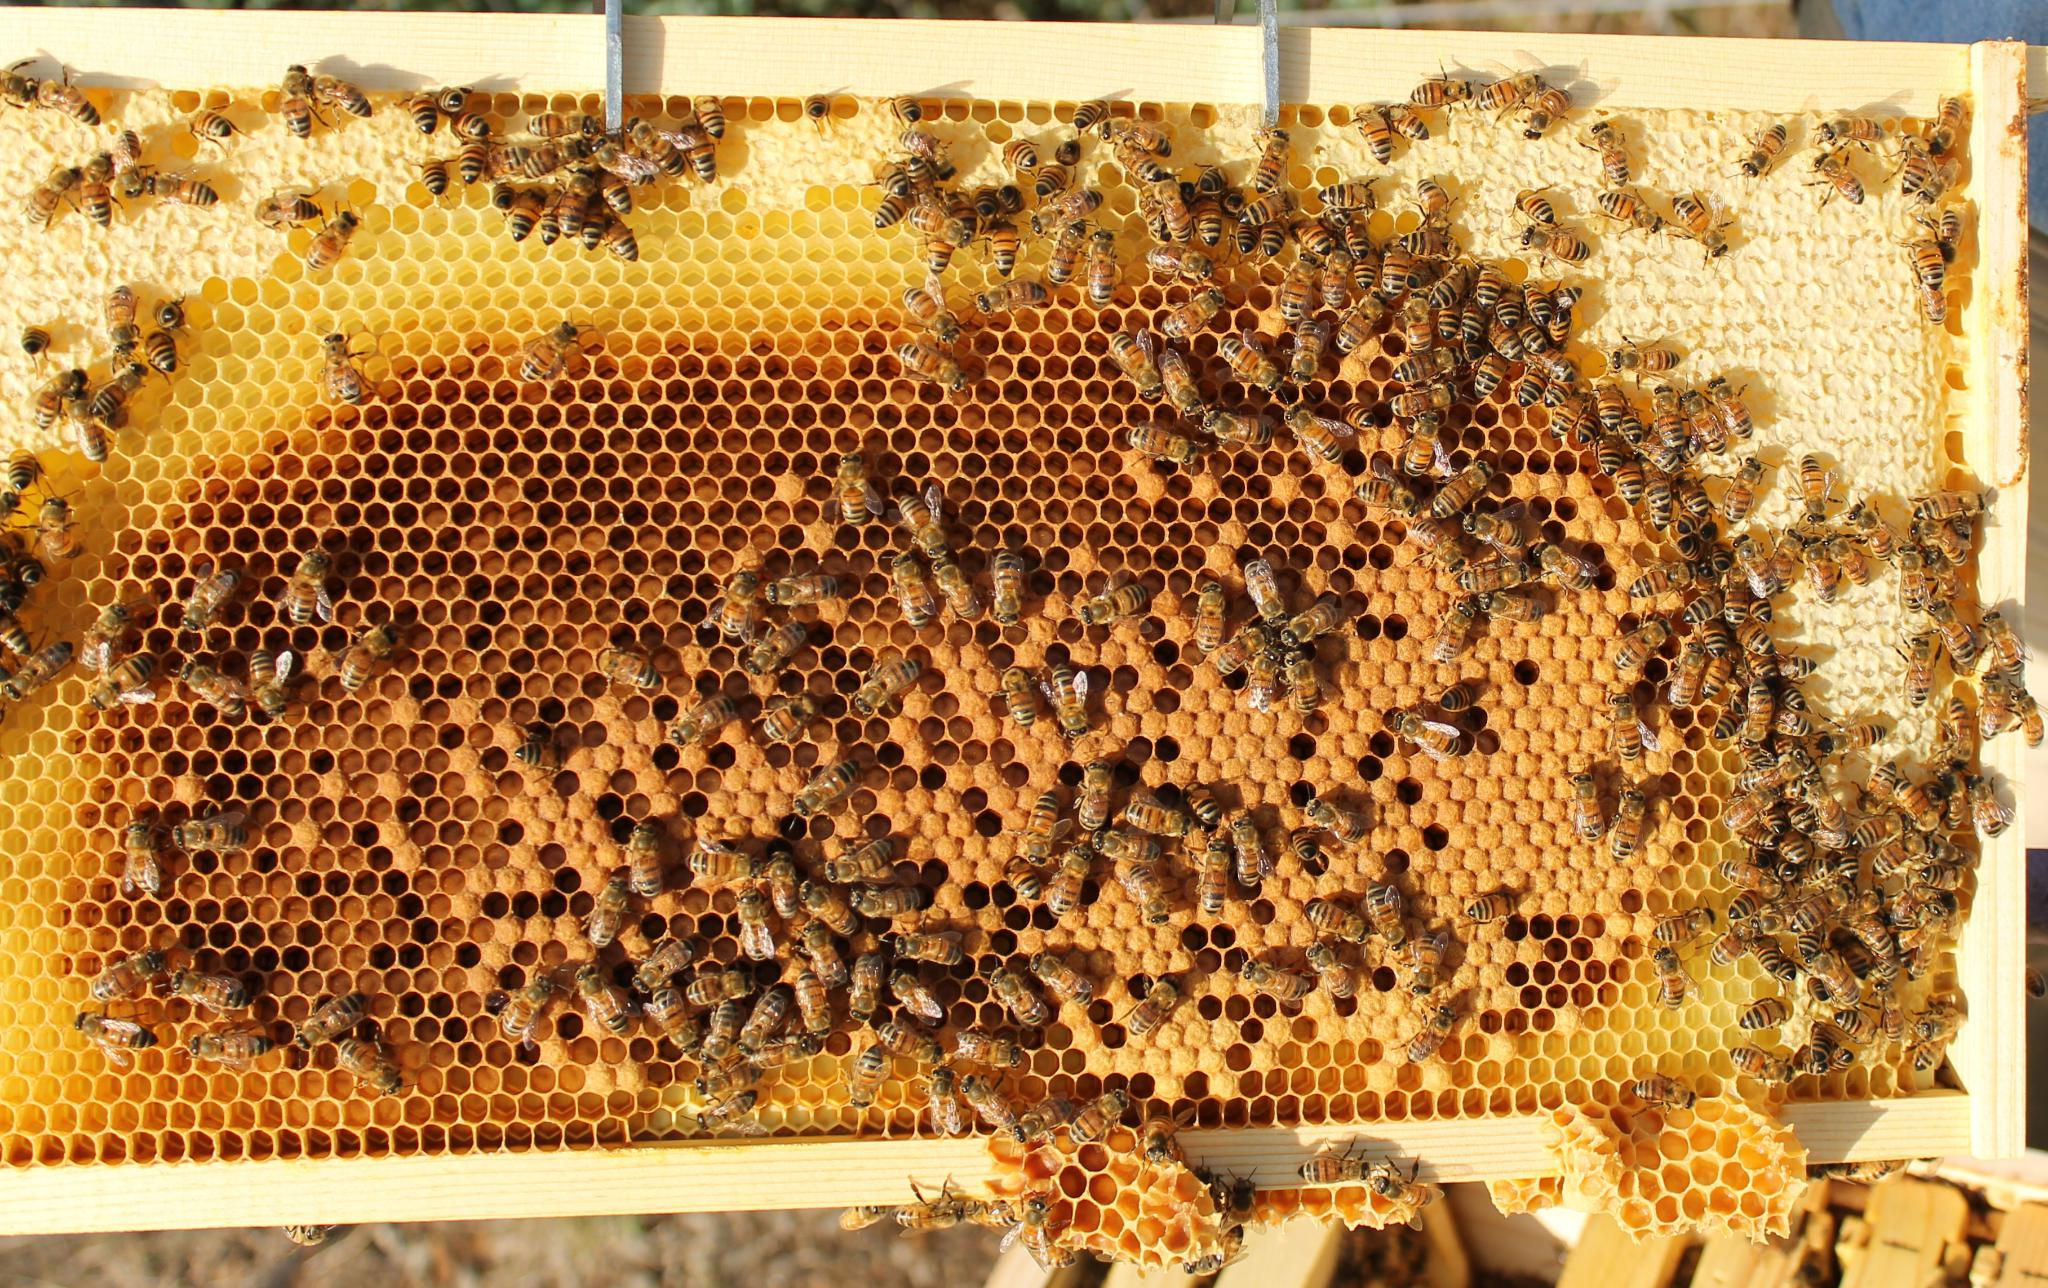bee: (7, 640, 73, 700), (295, 991, 364, 1048), (340, 626, 398, 689), (184, 567, 240, 629), (1431, 460, 1491, 516), (338, 1037, 402, 1091), (856, 659, 922, 711), (626, 119, 686, 175), (519, 322, 576, 381), (795, 758, 858, 812), (896, 343, 966, 390), (93, 653, 153, 708), (577, 965, 626, 1030), (901, 286, 957, 341), (1673, 197, 1726, 255), (1287, 404, 1340, 461), (33, 80, 99, 126), (1220, 338, 1281, 389), (1790, 881, 1854, 929), (991, 966, 1045, 1022), (739, 988, 785, 1054), (635, 938, 695, 988), (183, 662, 243, 711), (1031, 953, 1092, 1002), (502, 975, 551, 1036), (1112, 334, 1161, 395), (172, 969, 252, 1006), (1033, 190, 1104, 231), (1183, 1223, 1241, 1273), (306, 212, 356, 270), (1337, 291, 1386, 350), (36, 368, 85, 427), (1394, 712, 1460, 755), (592, 138, 654, 184), (77, 1012, 157, 1048), (960, 1074, 1015, 1126), (746, 622, 803, 672), (1069, 1091, 1126, 1140), (672, 696, 733, 742), (1164, 291, 1224, 337), (801, 881, 855, 933), (27, 168, 77, 223), (899, 496, 947, 553), (1732, 533, 1775, 597), (1681, 389, 1724, 453), (1049, 844, 1089, 913), (1367, 880, 1407, 948), (1805, 951, 1858, 1002), (92, 362, 145, 413), (1929, 599, 1972, 662), (653, 987, 696, 1049), (1129, 976, 1177, 1033), (1244, 558, 1284, 625), (827, 837, 890, 878), (95, 953, 159, 994), (1100, 120, 1171, 157), (893, 553, 928, 631), (889, 969, 941, 1019), (1710, 375, 1753, 436), (1082, 583, 1147, 623), (85, 602, 125, 668), (1217, 625, 1270, 674), (899, 131, 954, 178), (324, 334, 361, 404), (70, 390, 107, 460), (1126, 426, 1196, 463), (1983, 610, 2023, 674), (1304, 901, 1368, 941), (1155, 172, 1192, 240), (1535, 542, 1589, 588), (803, 920, 843, 982), (309, 76, 371, 116), (1738, 751, 1808, 786), (1475, 74, 1545, 110), (1963, 773, 2002, 837), (1242, 960, 1306, 999), (1408, 1005, 1453, 1059), (1015, 1095, 1070, 1140), (289, 551, 324, 622), (1052, 663, 1086, 735), (1392, 344, 1460, 380), (1849, 503, 1892, 559), (1717, 859, 1782, 896), (879, 1021, 941, 1059), (1414, 522, 1463, 571), (1616, 620, 1668, 666), (589, 877, 625, 944), (1355, 479, 1422, 515), (1907, 521, 1966, 561), (249, 650, 286, 714), (1598, 193, 1662, 230), (1723, 459, 1760, 522), (1768, 528, 1805, 592), (933, 559, 977, 614), (907, 208, 968, 246), (1281, 254, 1315, 322), (40, 497, 80, 555), (280, 64, 312, 138), (698, 1088, 757, 1126), (1806, 773, 1848, 828), (558, 169, 592, 236), (797, 966, 830, 1036), (1592, 122, 1628, 185), (700, 1000, 738, 1061), (1526, 89, 1572, 138), (1816, 154, 1862, 203), (1894, 778, 1938, 828), (1824, 534, 1868, 585), (763, 694, 815, 737), (1309, 944, 1352, 996), (1742, 123, 1785, 175), (1871, 838, 1937, 873), (1389, 383, 1457, 415), (1204, 411, 1272, 444), (80, 154, 111, 226), (1309, 798, 1364, 838), (1628, 564, 1695, 597), (1612, 791, 1644, 858), (1523, 227, 1589, 260), (721, 571, 755, 635), (687, 970, 751, 1005), (525, 141, 586, 177), (1049, 221, 1085, 282), (1753, 895, 1811, 932), (1723, 786, 1776, 827), (1803, 536, 1836, 601), (1125, 801, 1190, 834), (738, 890, 769, 959), (896, 932, 965, 963), (1729, 1046, 1791, 1080), (147, 175, 218, 205), (191, 1033, 275, 1058), (1671, 641, 1704, 705), (1284, 602, 1336, 643), (1819, 721, 1886, 752), (1655, 907, 1716, 941), (600, 650, 657, 686), (1131, 864, 1166, 921), (632, 824, 660, 896), (1711, 916, 1754, 963), (1898, 904, 1947, 945), (1256, 129, 1288, 191), (695, 1062, 763, 1092), (978, 280, 1046, 310), (1465, 513, 1524, 548), (1028, 789, 1057, 861), (1914, 490, 1986, 518), (959, 1031, 1020, 1064), (114, 129, 144, 196), (681, 125, 715, 183), (128, 822, 156, 892), (107, 285, 135, 355), (175, 819, 248, 846), (686, 850, 758, 877), (1632, 1077, 1695, 1108), (1405, 413, 1437, 475), (1195, 583, 1223, 651), (1977, 672, 2005, 740), (1088, 230, 1113, 306), (1456, 562, 1527, 589), (1164, 356, 1199, 410), (1632, 433, 1680, 473), (2011, 686, 2042, 746), (850, 1043, 882, 1104), (1285, 648, 1315, 712), (1857, 760, 1895, 809), (1742, 678, 1770, 745), (1079, 761, 1107, 828), (1573, 773, 1601, 840), (1925, 549, 1962, 599), (1828, 926, 1865, 976), (1947, 696, 1974, 766), (1201, 843, 1227, 913), (1005, 666, 1036, 726), (1610, 696, 1640, 758), (1149, 246, 1211, 276), (1429, 264, 1475, 304), (1655, 384, 1683, 450), (1897, 543, 1923, 611), (1906, 637, 1932, 705), (852, 886, 920, 913), (1021, 1233, 1074, 1267), (1852, 815, 1910, 846), (1321, 242, 1349, 306), (1293, 318, 1321, 381), (1848, 914, 1891, 956), (1092, 831, 1159, 858), (1437, 604, 1471, 656), (1481, 592, 1540, 622), (769, 576, 838, 601), (892, 1200, 962, 1226), (751, 1037, 813, 1065), (1239, 191, 1296, 223), (994, 549, 1018, 622), (1800, 453, 1825, 521), (1935, 767, 1963, 828), (1655, 947, 1683, 1008), (850, 953, 877, 1016), (478, 145, 530, 178), (512, 187, 545, 239), (1299, 1156, 1370, 1180), (1526, 346, 1575, 380), (1549, 389, 1583, 438), (1235, 819, 1260, 884), (595, 166, 631, 212), (603, 214, 638, 260), (931, 1067, 959, 1125), (841, 454, 865, 522), (1730, 617, 1773, 654), (1487, 316, 1524, 359), (1413, 933, 1441, 990), (1931, 98, 1959, 154), (1833, 887, 1886, 917), (1876, 981, 1903, 1040), (1730, 886, 1781, 917), (1821, 116, 1883, 141), (1359, 113, 1391, 163), (772, 852, 795, 917), (1116, 147, 1161, 181), (1891, 878, 1923, 924), (1901, 135, 1926, 194), (1417, 178, 1447, 229), (525, 113, 592, 135), (1773, 736, 1815, 772), (1411, 82, 1474, 105), (1914, 1025, 1950, 1067), (1377, 1178, 1432, 1205), (1738, 999, 1787, 1028), (1405, 294, 1431, 350), (1676, 473, 1708, 516), (968, 1199, 1020, 1226), (1613, 349, 1680, 369), (1251, 648, 1275, 706), (1919, 166, 1955, 205), (0, 607, 30, 653), (1914, 243, 1944, 289), (907, 156, 935, 203), (1917, 277, 1946, 325), (1477, 352, 1506, 396), (1683, 589, 1723, 622), (1006, 858, 1039, 898), (1834, 1009, 1874, 1042), (1389, 107, 1429, 139), (1193, 194, 1220, 243), (1316, 183, 1371, 206), (264, 196, 319, 220), (1383, 242, 1407, 297), (1143, 1113, 1171, 1159), (1641, 466, 1671, 509), (1291, 220, 1328, 254), (1226, 1177, 1254, 1221), (540, 187, 562, 243), (991, 227, 1017, 276), (1140, 196, 1168, 239), (1768, 678, 1806, 709), (1186, 783, 1218, 819), (1468, 893, 1517, 917), (1766, 711, 1812, 736), (1920, 1006, 1957, 1037), (145, 331, 175, 369), (1769, 654, 1816, 678), (1803, 824, 1851, 847), (1618, 457, 1641, 505), (579, 199, 601, 249), (1523, 280, 1549, 322), (1496, 286, 1523, 328), (1714, 699, 1744, 736), (1779, 829, 1809, 867), (515, 740, 561, 764), (1597, 380, 1619, 429), (1517, 315, 1545, 353), (1518, 367, 1546, 405), (460, 142, 487, 183), (874, 162, 905, 196), (0, 71, 36, 101), (1702, 654, 1727, 696), (1023, 1196, 1043, 1246), (1940, 211, 1960, 261), (696, 99, 724, 137), (411, 95, 438, 134), (193, 110, 232, 137), (840, 1205, 886, 1227), (1353, 242, 1376, 288), (1908, 936, 1932, 979), (1407, 260, 1443, 288), (1920, 865, 1965, 887), (951, 191, 975, 233), (1744, 647, 1775, 678), (1521, 191, 1554, 221), (1545, 371, 1573, 405), (1346, 217, 1368, 260), (1477, 267, 1499, 310), (1649, 487, 1671, 530), (1699, 619, 1726, 654), (1784, 794, 1811, 829), (1739, 825, 1779, 849), (1540, 286, 1581, 310), (453, 111, 490, 137), (876, 196, 907, 226), (1597, 432, 1619, 473), (1765, 778, 1808, 798), (1460, 303, 1484, 340), (1034, 166, 1066, 194), (1747, 589, 1773, 622), (1870, 947, 1897, 979), (421, 159, 447, 193), (926, 237, 951, 272), (1618, 404, 1640, 442), (1754, 933, 1778, 969), (1724, 586, 1745, 626), (7, 457, 34, 488), (1438, 303, 1460, 340), (1073, 102, 1106, 128), (1797, 856, 1833, 878), (1797, 1045, 1827, 1071), (19, 328, 50, 353), (1834, 846, 1858, 878), (1578, 405, 1598, 442), (1549, 310, 1572, 344), (15, 553, 40, 583), (1199, 166, 1229, 191), (1940, 889, 1957, 930), (1261, 223, 1284, 255), (1293, 828, 1318, 856), (1812, 1024, 1833, 1058), (1441, 683, 1471, 706), (1005, 141, 1034, 165), (1236, 221, 1258, 252), (1799, 924, 1819, 957), (1319, 206, 1352, 227), (0, 530, 21, 562), (1769, 951, 1794, 978), (895, 95, 922, 120), (1345, 404, 1373, 427), (1677, 536, 1704, 559), (975, 187, 997, 215), (1674, 439, 1701, 461), (1711, 542, 1733, 568), (157, 301, 181, 325), (1762, 807, 1784, 832), (1750, 844, 1775, 867), (1002, 184, 1023, 211), (4, 579, 24, 607), (1693, 565, 1716, 589), (803, 95, 827, 117), (1677, 509, 1699, 533), (491, 184, 516, 205), (439, 89, 463, 110), (1830, 1048, 1854, 1068), (1221, 191, 1244, 212), (0, 490, 16, 516), (1060, 141, 1077, 162), (1701, 519, 1719, 539), (1776, 859, 1793, 880), (1463, 341, 1483, 358), (1895, 945, 1908, 965), (0, 567, 7, 595)
